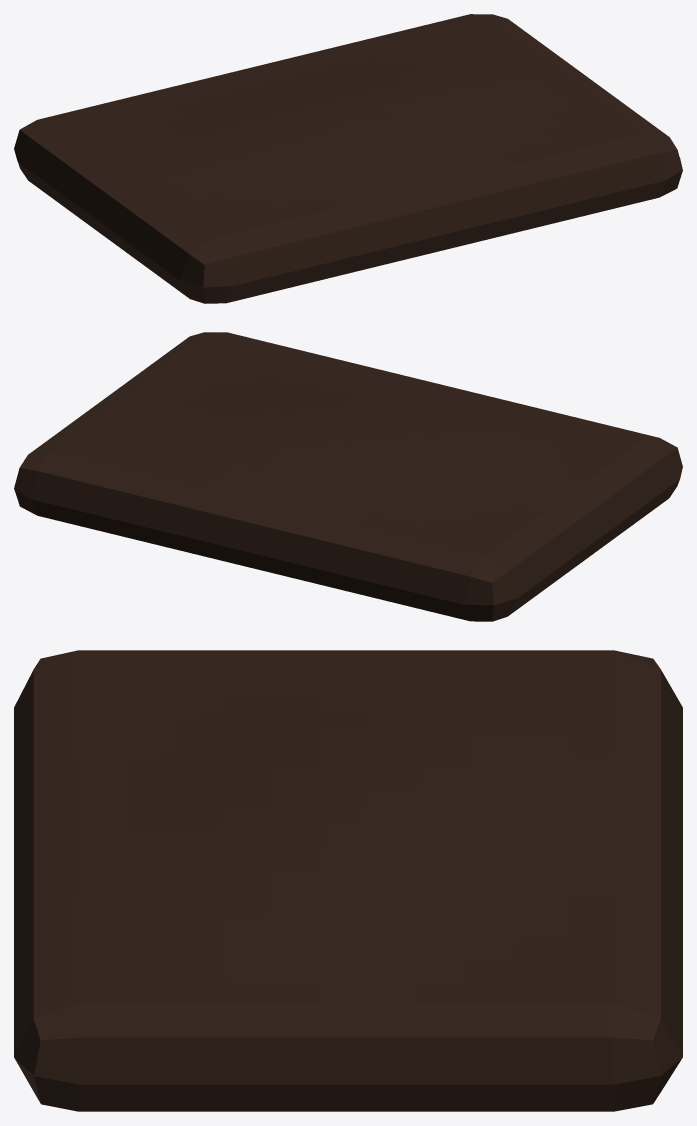
Rendered from BIB-THR-std.glb.
3 renders of one model, top to bottom at view 1: azimuth 30°, elevation 25°; view 2: azimuth 150°, elevation 25°; view 3: azimuth 270°, elevation 25°, orthographic. The views are drawn at different scales.
Parts seen in each view (by area): view 1: throw:pbr; view 2: throw:pbr; view 3: throw:pbr.
Part boxes in pixels (x1=…): throw:pbr: x1=14, y1=14, x2=682, y2=303; throw:pbr: x1=14, y1=332, x2=682, y2=621; throw:pbr: x1=14, y1=650, x2=682, y2=1111.
Bounding box in the file's own units: 0.4983 × 0.0729 × 0.3486.
